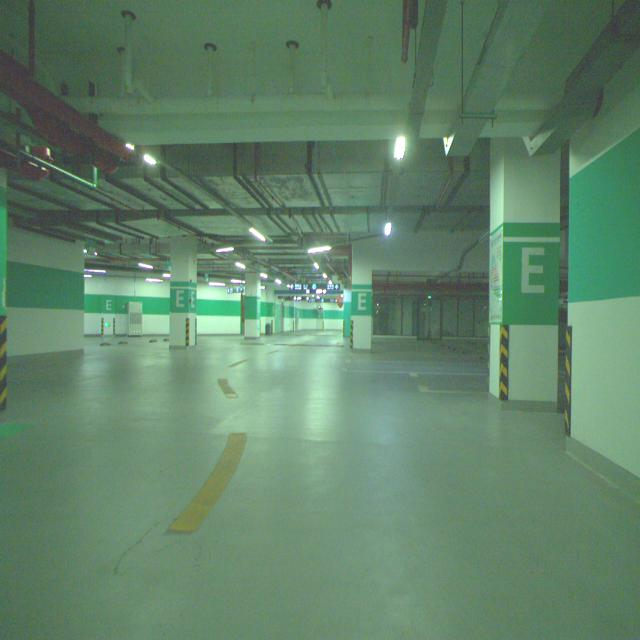pillar: (489, 139, 560, 407), (170, 236, 198, 346), (245, 272, 260, 339)
